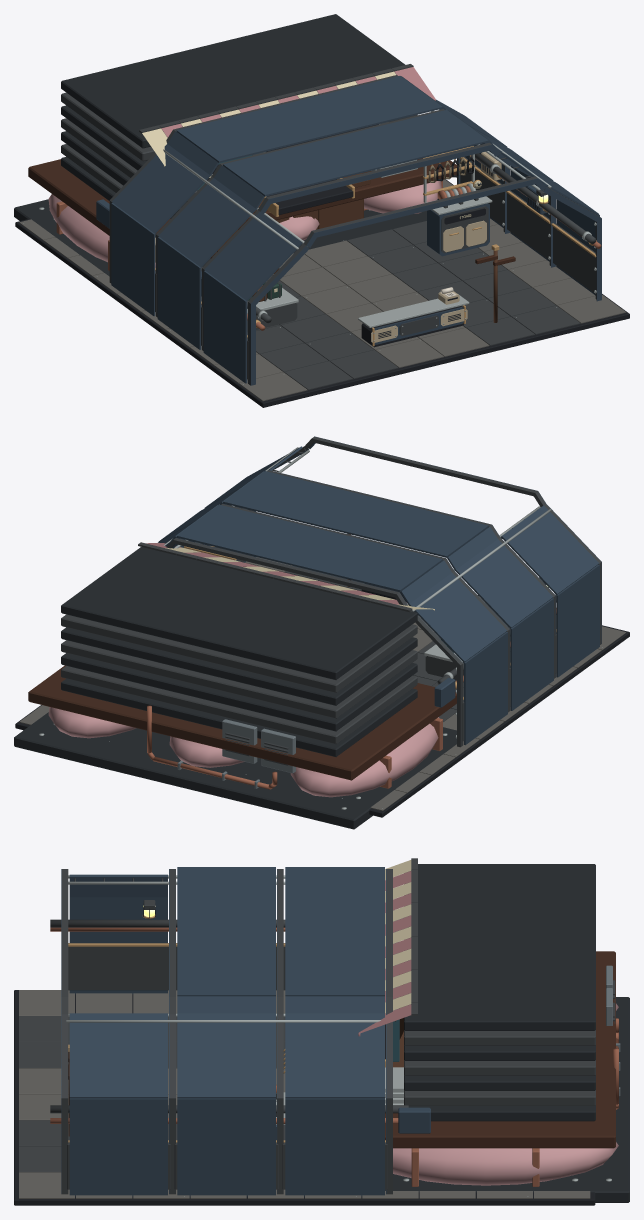
The model's file is candara-outfit.glb.
3 views of the same model, one above another, from view 1: azimuth 30°, elevation 25°; view 2: azimuth 150°, elevation 25°; view 3: azimuth 270°, elevation 25° (orthographic). The views are drawn at different scales.
Visible parts, largest first — view 1: candara-outfit; view 2: candara-outfit; view 3: candara-outfit.
Part boxes in pixels (box(x1,y1,x2,y2)): candara-outfit: box(14, 14, 629, 407); candara-outfit: box(14, 436, 629, 829); candara-outfit: box(14, 858, 629, 1205).
Size of the model in its own units: 17.08 by 6.63 by 21.15.
Materials: 22 (18 with a texture image).
